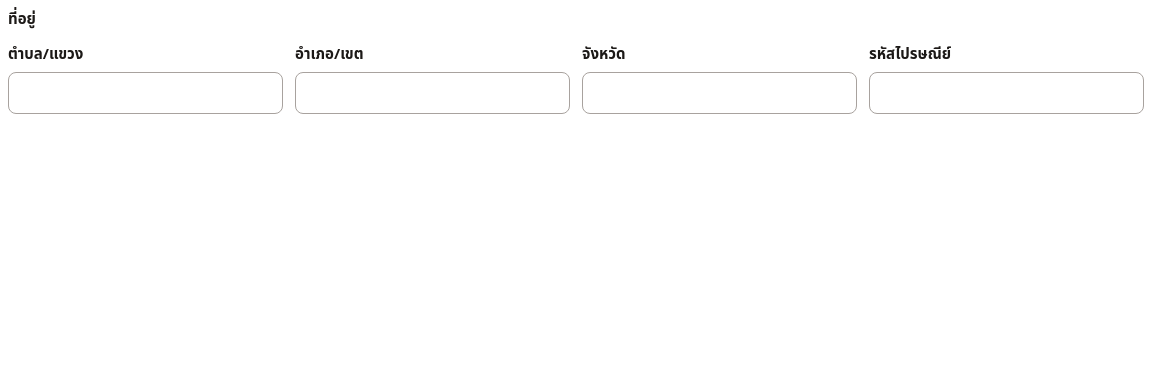
Test: ThaiAddressInput – split fields › only searches the field being typed in and relabels for Bangkok
The image size is (1152, 388).
Type "บางรัก" into the dropdown labelled "อำเภอ/เขต" at (432, 93), box [295, 72, 570, 114]
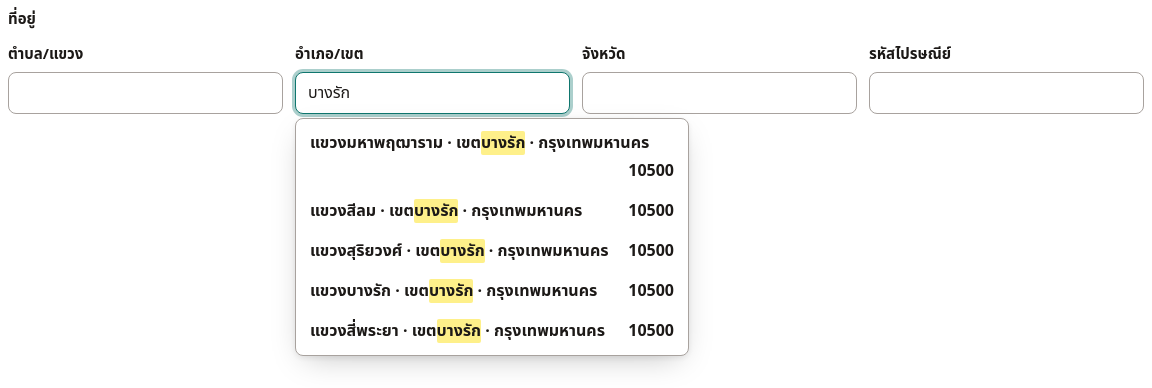
Now the option "แขวงสีลม · เขตบางรัก · กรุงเทพมหานคร 10500" is shown
Now the option "แขวงสุริยวงศ์ · เขตบางรัก · กรุงเทพมหานคร 10500" is shown, box [300, 231, 684, 271]
Now the option "แขวงบางรัก · เขตบางรัก · กรุงเทพมหานคร 10500" is shown, box [300, 271, 684, 311]
Click the option "แขวงสีลม · เขตบางรัก · กรุงเทพมหานคร 10500" at (492, 211), box [300, 191, 684, 231]
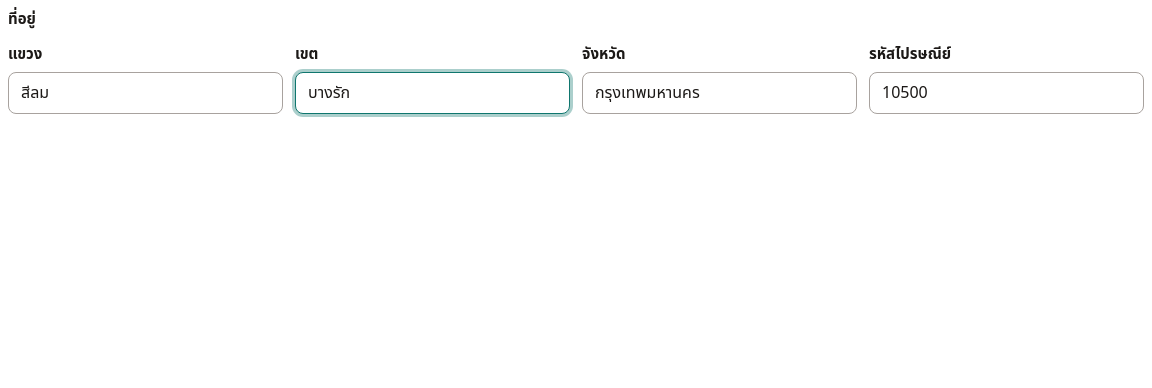
Now the dropdown labelled "แขวง" holds "สีลม", box [8, 72, 283, 114]
Now the dropdown labelled "จังหวัด" holds "กรุงเทพมหานคร", box [582, 72, 857, 114]
